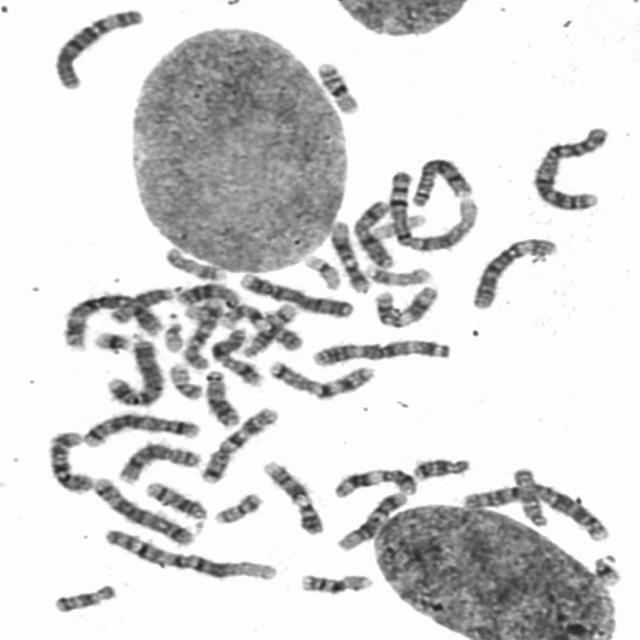A1: (98, 521, 281, 583), (382, 165, 481, 253)
A2: (456, 477, 612, 542), (526, 120, 612, 212)
A3: (57, 286, 166, 352), (304, 333, 454, 369)
B4: (233, 267, 355, 319), (98, 332, 166, 407)
B5: (86, 471, 198, 548), (76, 407, 204, 449)
C10: (41, 425, 96, 495), (176, 294, 225, 371)
C11: (368, 280, 440, 330), (327, 463, 420, 499)
C12: (330, 486, 410, 552), (324, 216, 373, 294)
C6: (46, 2, 147, 91), (466, 231, 560, 311)
C7: (194, 402, 281, 484), (262, 355, 377, 400)
C8: (112, 436, 205, 485), (406, 152, 475, 208)
C9: (256, 454, 326, 536), (216, 298, 304, 352)
D13: (198, 364, 242, 428), (168, 277, 244, 310)
D14: (236, 298, 301, 359), (139, 476, 208, 522)
D15: (103, 280, 180, 325), (508, 462, 551, 528)
E16: (310, 56, 362, 116), (292, 567, 376, 595)
E17: (159, 242, 228, 282), (357, 258, 435, 287)
E18: (47, 578, 118, 614), (406, 451, 473, 482)
F19: (366, 209, 430, 241), (296, 248, 342, 291)
F20: (208, 487, 265, 525), (162, 358, 204, 401)
G21: (586, 547, 624, 587), (87, 325, 133, 353)
G22: (157, 315, 187, 353), (179, 298, 225, 322)
X: (205, 324, 265, 388), (348, 195, 398, 269)
